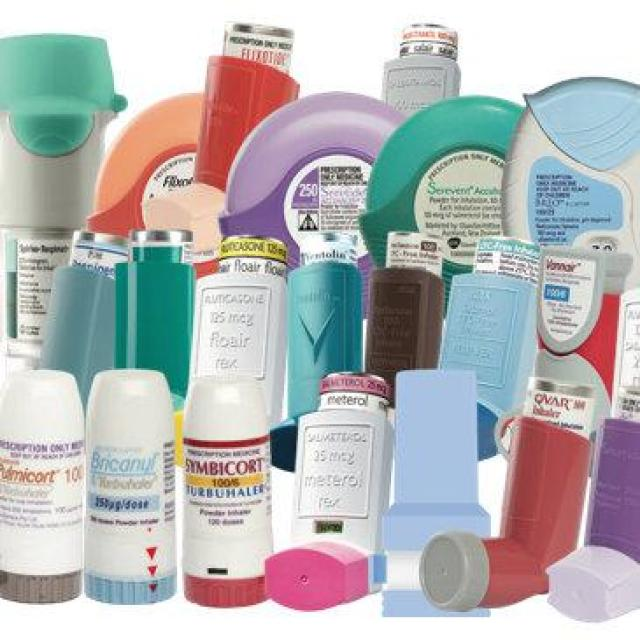B3: (214, 86, 444, 302), (410, 370, 598, 617), (259, 362, 402, 616), (342, 91, 540, 268), (508, 65, 640, 266)
